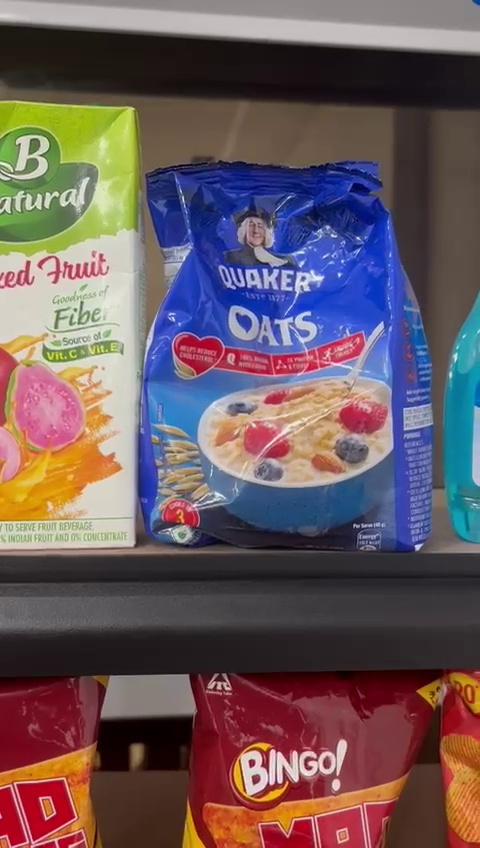Quaker Oats: (138, 161, 436, 555)
